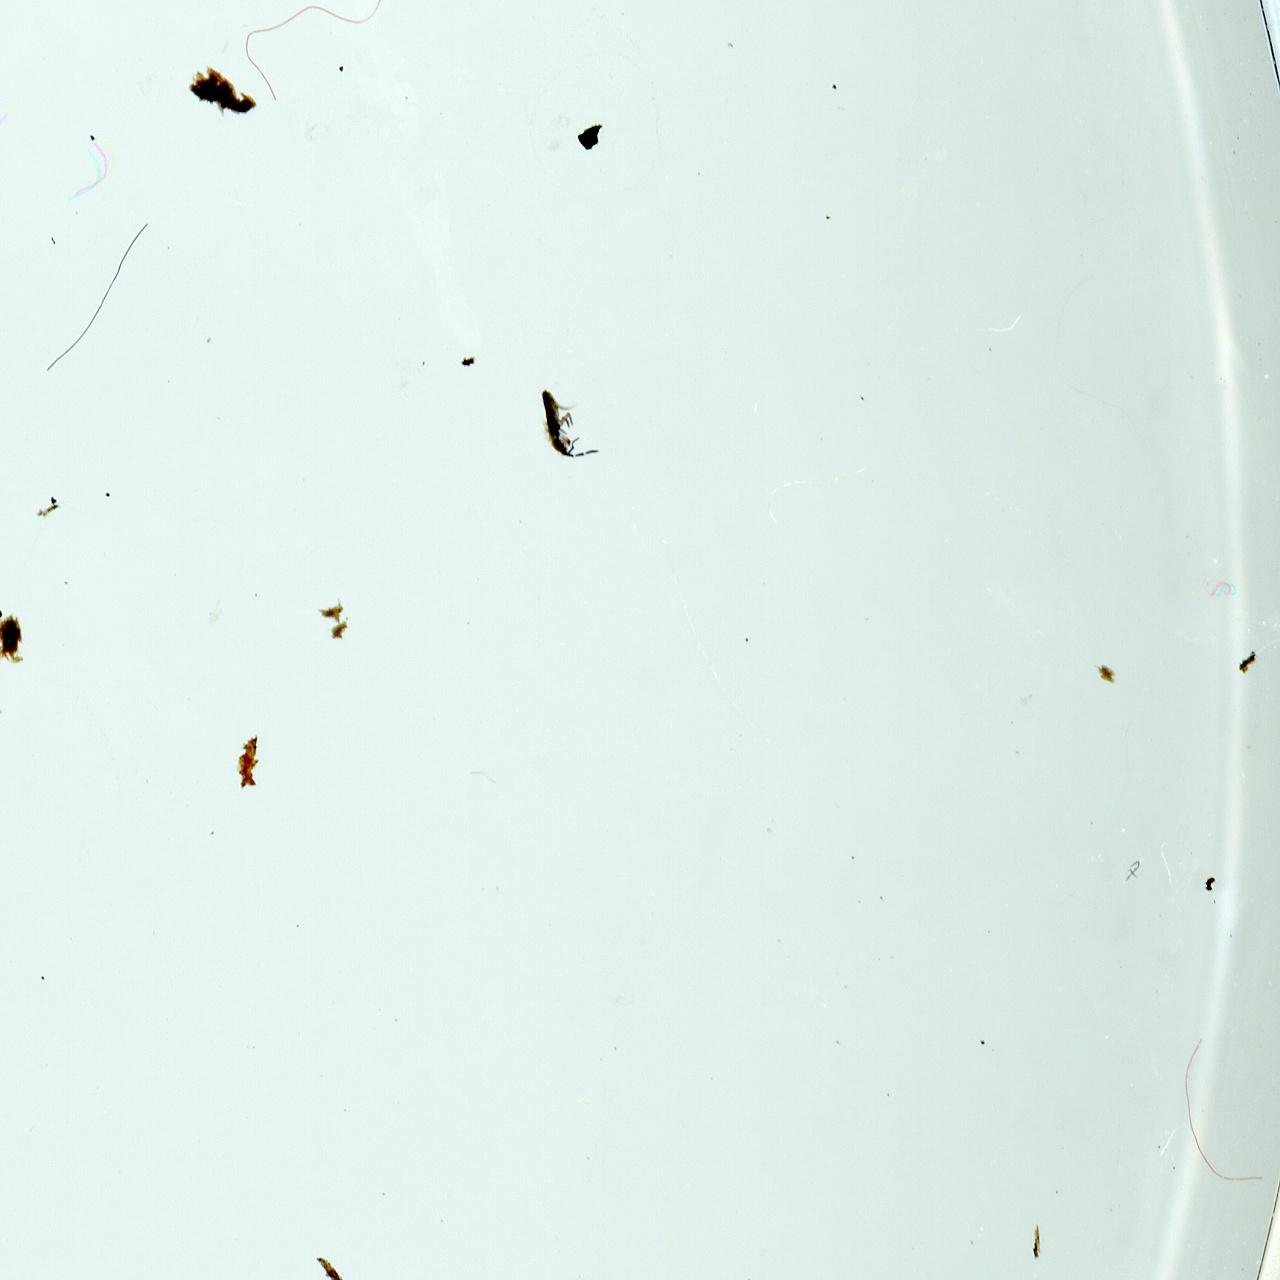arthropod: (527, 373, 607, 474)
